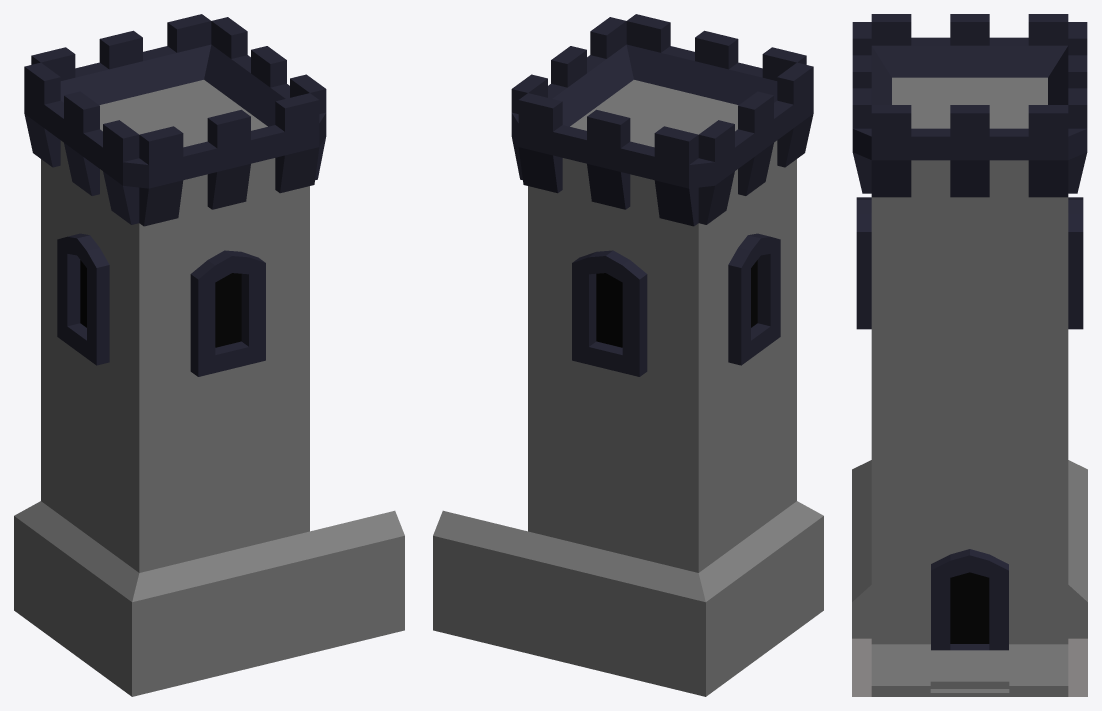
File: Armoury Cap.fbx
3 views of the same model, side by side, from view 1: azimuth 30°, elevation 25°; view 2: azimuth 150°, elevation 25°; view 3: azimuth 270°, elevation 25° (orthographic).
Parts seen in each view (by area): view 1: Amory Cap; view 2: Amory Cap; view 3: Amory Cap.
Boxes of the visible parts, x1,y1,x2,y2 form: Amory Cap: (14, 14, 404, 696); Amory Cap: (433, 14, 823, 696); Amory Cap: (852, 14, 1087, 696).
Size of the model in its own units: 0.8 by 1.54 by 0.6.
